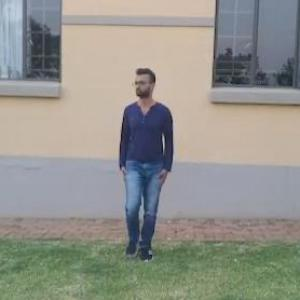follow: (109, 54, 180, 281)
